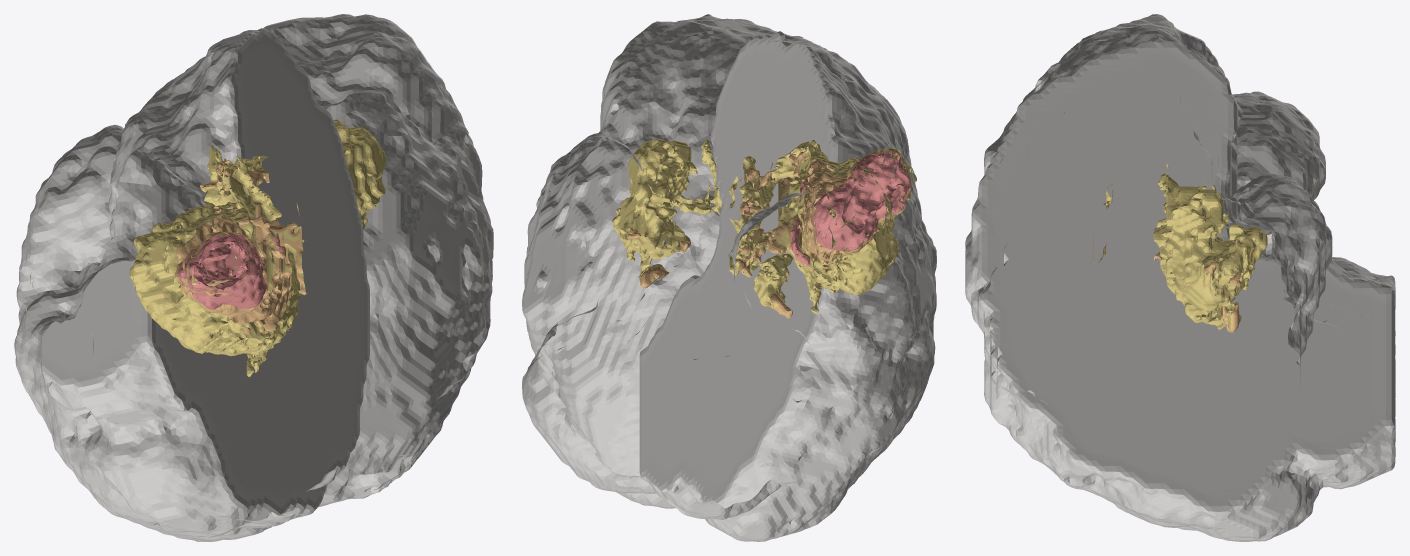
3 renders of one model, left to right at view 1: azimuth 30°, elevation 25°; view 2: azimuth 150°, elevation 25°; view 3: azimuth 270°, elevation 25°, orthographic. The views are drawn at different scales.
Parts seen in each view (by area): view 1: brain_left, brain_right, edema, core, enhancing; view 2: brain_left, brain_right, edema, core, enhancing; view 3: brain_right, brain_left, edema, core.
Part boxes in pixels (left/top/right/bottom): brain_left: left=14, top=28, right=369, bottom=541; brain_right: left=263, top=14, right=493, bottom=507; edema: left=129, top=119, right=386, bottom=376; core: left=174, top=159, right=307, bottom=334; enhancing: left=178, top=233, right=285, bottom=309; brain_left: left=639, top=31, right=936, bottom=541; brain_right: left=522, top=14, right=777, bottom=508; edema: left=612, top=139, right=916, bottom=318; core: left=627, top=148, right=911, bottom=318; enhancing: left=744, top=151, right=910, bottom=264; brain_right: left=965, top=36, right=1395, bottom=541; brain_left: left=965, top=14, right=1395, bottom=397; edema: left=1093, top=163, right=1267, bottom=332; core: left=1093, top=185, right=1247, bottom=332.
Bounding box in the file's own units: 140 × 172 × 136.
